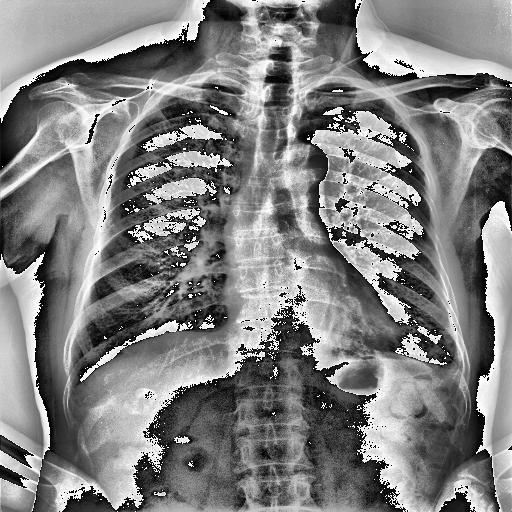10- Pleural effusion: (432, 336, 466, 394), (434, 336, 464, 381), (62, 374, 89, 398), (438, 360, 466, 382)
11- Pleural thickening: (432, 336, 466, 394), (434, 336, 464, 381), (62, 374, 89, 398), (438, 360, 466, 382)
5- ILD: (394, 304, 458, 364)
9- Other lesion: (229, 146, 288, 288)
